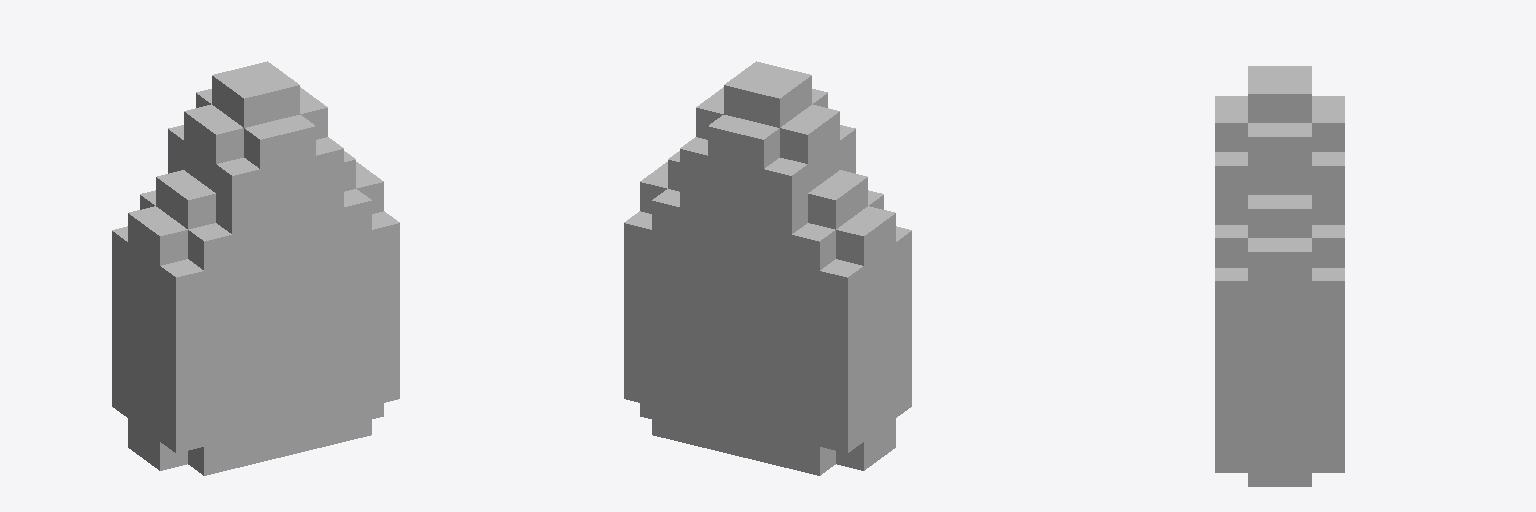
The model's file is Boost 2.obj.
3 renders of one model, left to right at view 1: azimuth 30°, elevation 25°; view 2: azimuth 150°, elevation 25°; view 3: azimuth 270°, elevation 25°, orthographic.
Visible parts, largest first — view 1: object 1; view 2: object 1; view 3: object 1.
Part boxes in pixels (x1,y1,x2,y2): object 1: (112, 61, 399, 475); object 1: (624, 61, 911, 475); object 1: (1215, 66, 1344, 486).
Size of the model in its own units: 0.8 by 1.2 by 0.4.